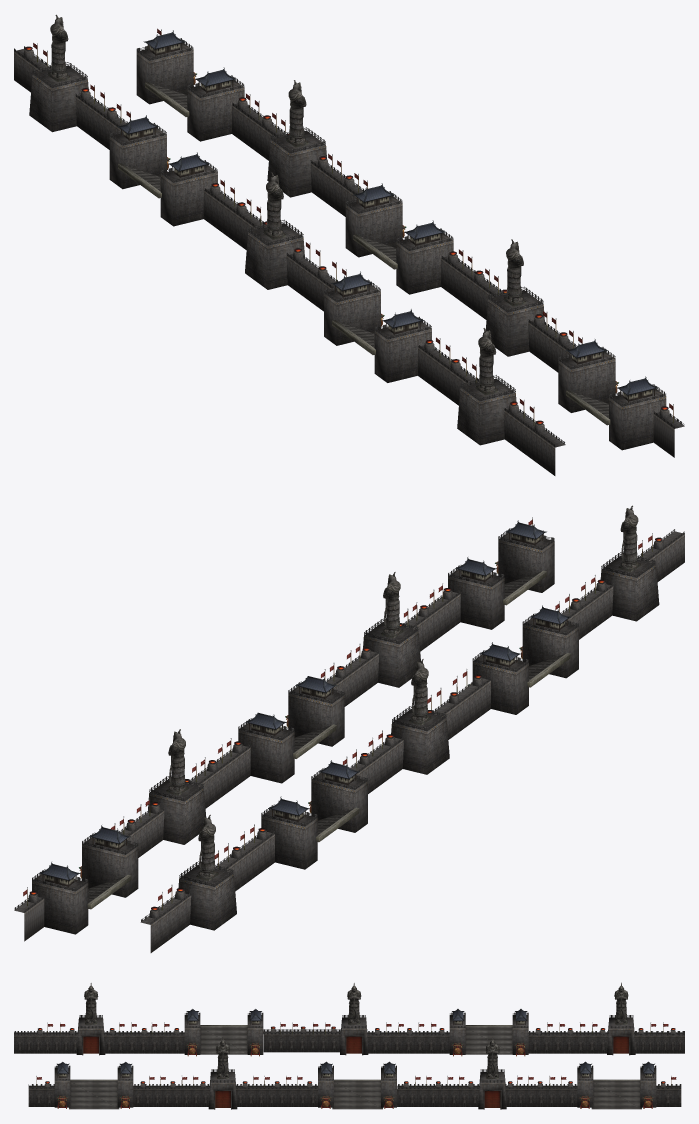
File: c_jin_wall.glb
The picture shows the model from 3 angles, top to bottom: view 1: azimuth 30°, elevation 25°; view 2: azimuth 150°, elevation 25°; view 3: azimuth 270°, elevation 25°; orthographic projection. The views are drawn at different scales.
Parts seen in each view (by area): view 1: C_jin_wall_orwall, C_jin_wall_nangan, C_jin_wall_master, C_jin_wall_roof, C_jin_wall_exit, C_jin_wall_bbwall, C_jin_wall_floor, C_jin_wall_door, C_jin_wall_bwall, C_jin_wall_flag; view 2: C_jin_wall_orwall, C_jin_wall_nangan, C_jin_wall_master, C_jin_wall_roof, C_jin_wall_exit, C_jin_wall_bbwall, C_jin_wall_floor, C_jin_wall_door, C_jin_wall_flag, C_jin_wall_bwall; view 3: C_jin_wall_soldier, C_jin_wall_orwall, C_jin_wall_floor, C_jin_wall_nangan, C_jin_wall_master, C_jin_wall_twall, C_jin_wall_roof, C_jin_wall_jing, C_jin_wall_door02, C_jin_wall_flag, C_jin_wall_exit, C_jin_wall_door (+1 smaller).
Part boxes in pixels (x1,y1,x2,y2): C_jin_wall_orwall: [14, 42, 684, 475]; C_jin_wall_nangan: [14, 38, 684, 446]; C_jin_wall_master: [47, 14, 526, 395]; C_jin_wall_roof: [119, 32, 656, 395]; C_jin_wall_exit: [118, 82, 610, 425]; C_jin_wall_bbwall: [123, 43, 652, 401]; C_jin_wall_floor: [124, 82, 608, 418]; C_jin_wall_door: [37, 31, 673, 425]; C_jin_wall_bwall: [121, 43, 654, 402]; C_jin_wall_flag: [33, 28, 672, 412]; C_jin_wall_orwall: [14, 531, 684, 952]; C_jin_wall_nangan: [14, 528, 684, 924]; C_jin_wall_master: [165, 505, 640, 881]; C_jin_wall_roof: [41, 522, 568, 880]; C_jin_wall_exit: [87, 570, 570, 909]; C_jin_wall_bbwall: [45, 533, 565, 886]; C_jin_wall_floor: [88, 571, 564, 903]; C_jin_wall_door: [27, 519, 652, 910]; C_jin_wall_flag: [23, 520, 651, 900]; C_jin_wall_bwall: [42, 533, 567, 887]; C_jin_wall_soldier: [14, 1034, 684, 1106]; C_jin_wall_orwall: [14, 1014, 684, 1109]; C_jin_wall_floor: [69, 1026, 641, 1109]; C_jin_wall_nangan: [14, 1012, 684, 1088]; C_jin_wall_master: [84, 982, 628, 1078]; C_jin_wall_twall: [83, 1036, 628, 1107]; C_jin_wall_roof: [57, 1009, 654, 1073]; C_jin_wall_jing: [56, 1043, 654, 1108]; C_jin_wall_door02: [38, 1026, 675, 1109]; C_jin_wall_flag: [37, 1024, 676, 1079]; C_jin_wall_exit: [70, 1025, 640, 1080]; C_jin_wall_door: [36, 1024, 671, 1087].
Size of the model in its own units: 78.86 by 53.49 by 402.
15 materials, 15 textured.
